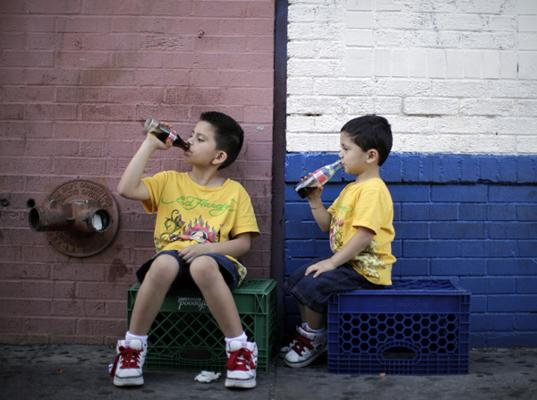person: (108, 107, 262, 389)
